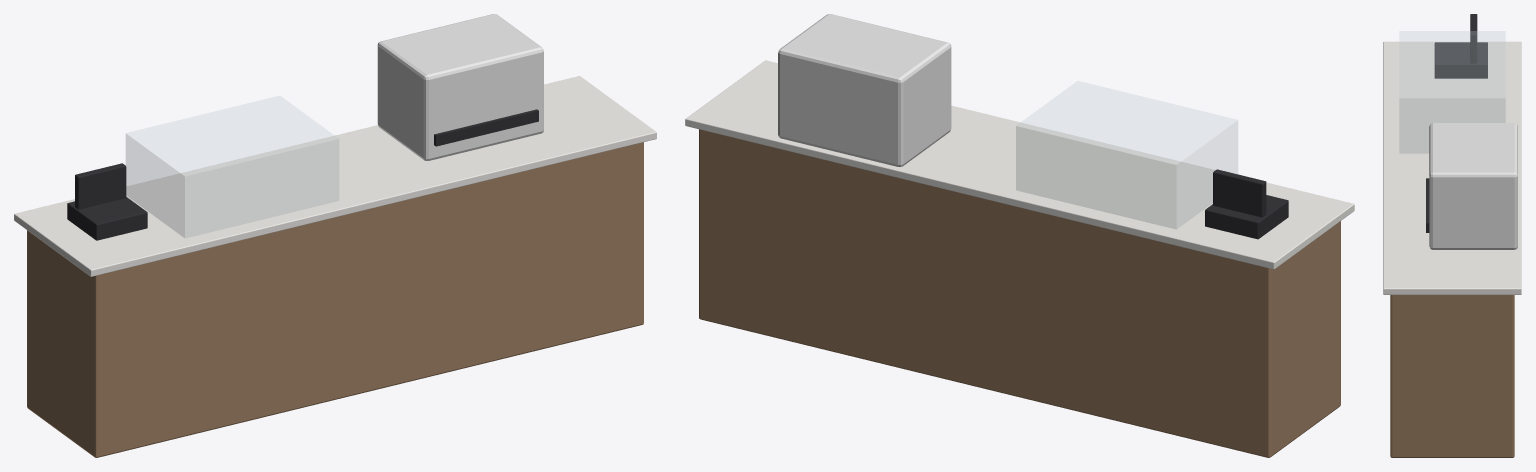
Rendered from cafe_counter.glb.
3 renders of one model, left to right at view 1: azimuth 30°, elevation 25°; view 2: azimuth 150°, elevation 25°; view 3: azimuth 270°, elevation 25°, orthographic. The views are drawn at different scales.
Visible parts, largest first — view 1: Body, Top, PastryCase, CoffeeMachine, Till, GroupHeads; view 2: Body, Top, PastryCase, CoffeeMachine, Till; view 3: Top, Body, CoffeeMachine, PastryCase, Till, GroupHeads.
Part boxes in pixels (<box>): Body: <box>27,142,643,457</box>; Top: <box>14,76,656,276</box>; PastryCase: <box>126,96,338,237</box>; CoffeeMachine: <box>377,14,543,160</box>; Till: <box>67,163,147,240</box>; GroupHeads: <box>434,109,538,146</box>; Body: <box>699,129,1340,457</box>; Top: <box>685,60,1354,269</box>; PastryCase: <box>1016,81,1237,229</box>; CoffeeMachine: <box>778,14,951,166</box>; Till: <box>1205,169,1288,239</box>; Top: <box>1383,41,1521,294</box>; Body: <box>1390,295,1514,457</box>; CoffeeMachine: <box>1429,123,1517,249</box>; PastryCase: <box>1399,31,1505,153</box>; Till: <box>1434,14,1487,78</box>; GroupHeads: <box>1426,178,1429,232</box>.
Size of the model in its own units: 3.3 by 1.56 by 0.78.
